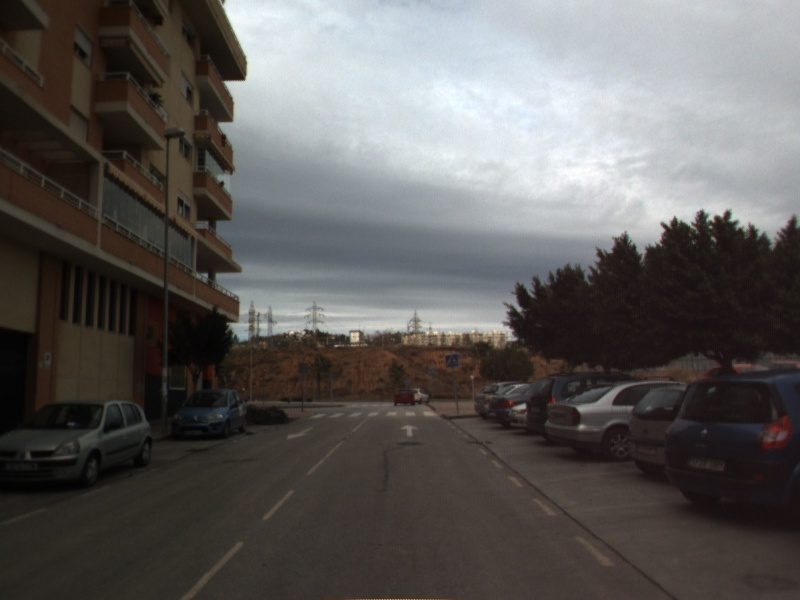STRAIGHT: (398, 422, 421, 439)
